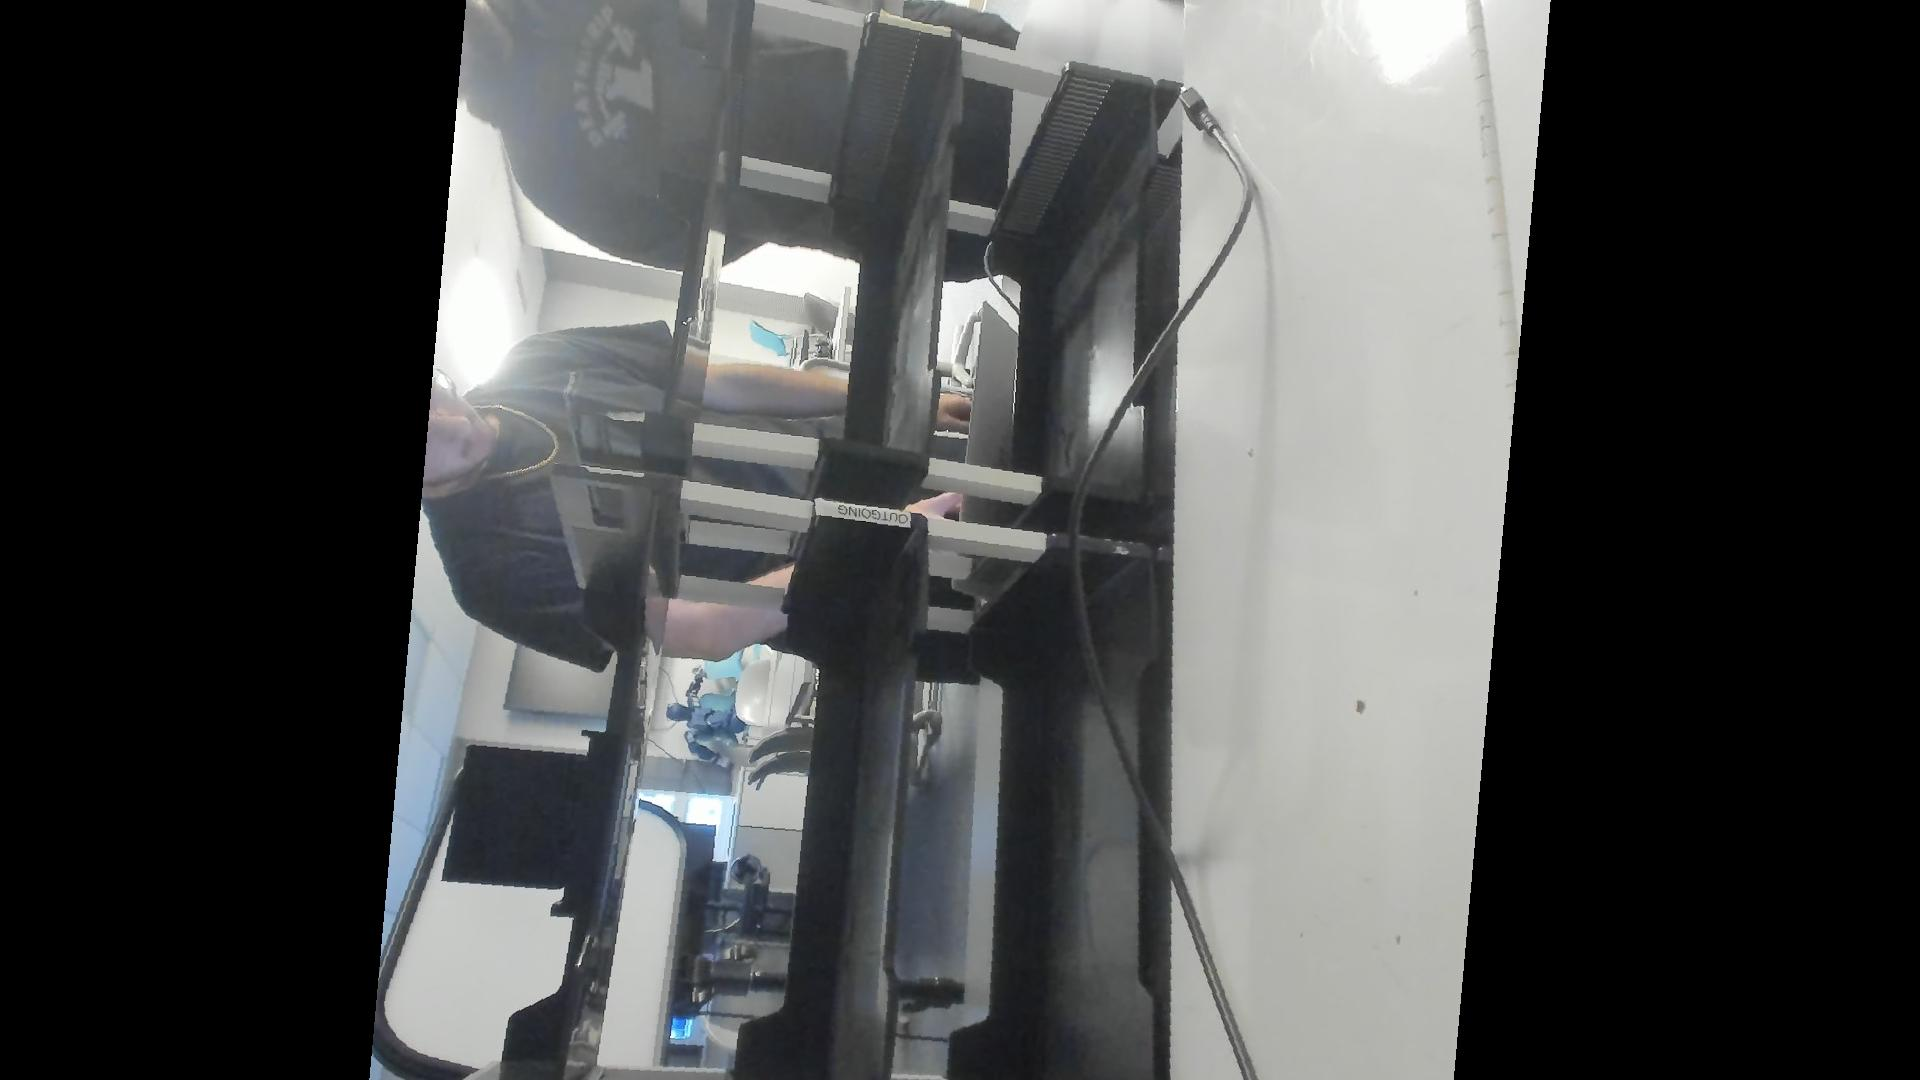black pallet: (436, 724, 629, 920)
